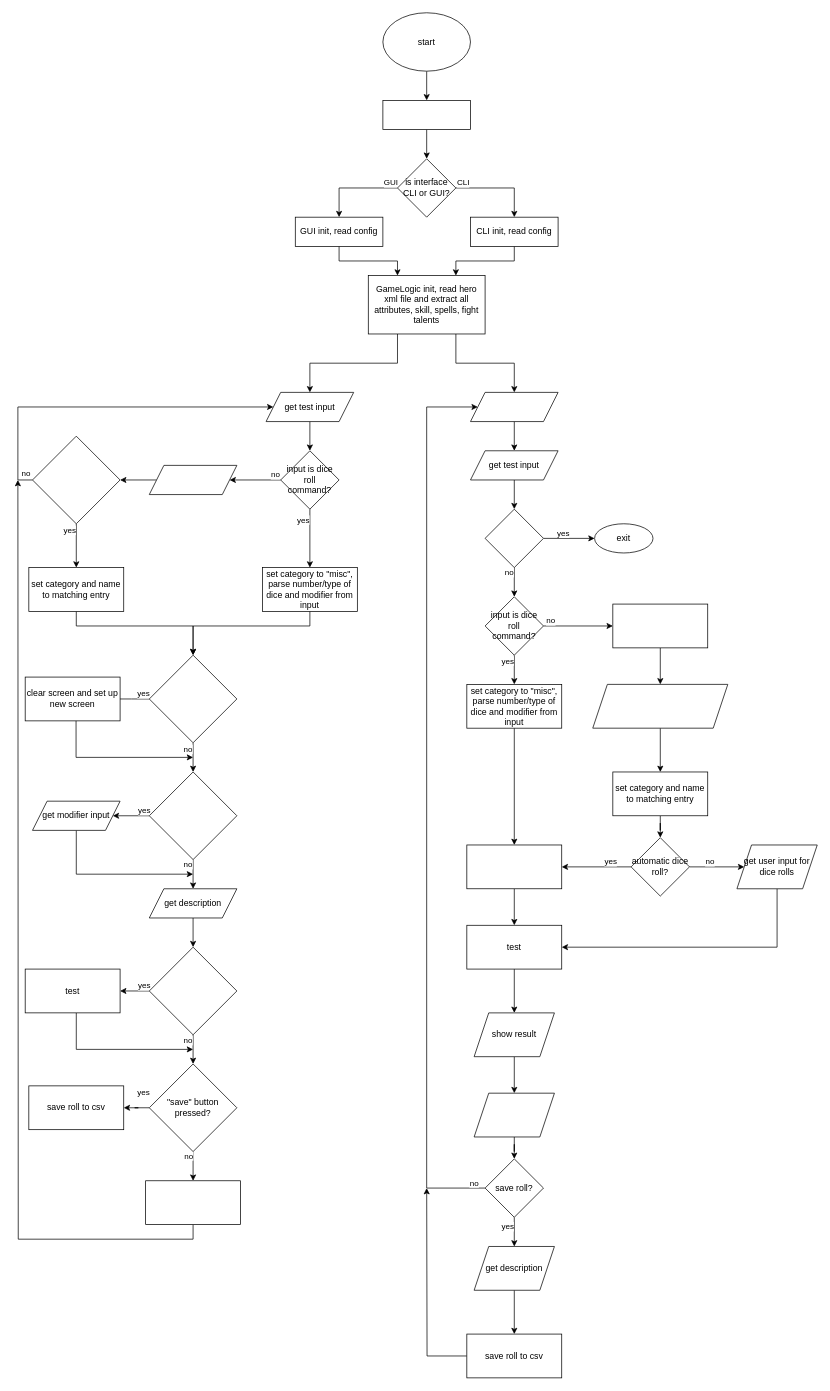
Image size: 830x1391. Some labels were removed from this diagram. Each missing label, with the centre of its shape:
"test" button pressed?: the point at 193,990
ask user if roll should be saved: the point at 513,1114
display matching entries and ask user for selection and modifier: the point at 660,706
generate dice rolls: the point at 514,866
has category changed since last iteration?: the point at 193,698
input = "quit" or "exit"?: the point at 513,538
look up all entries matching user input: the point at 660,625
only one match or input text matches exactly one entry?: the point at 76,479
print roll number: the point at 514,407
read config: the point at 426,115
show matching entries: the point at 193,480
testing any category other than "misc"?: the point at 193,815
update GUI screen: the point at 193,1202
